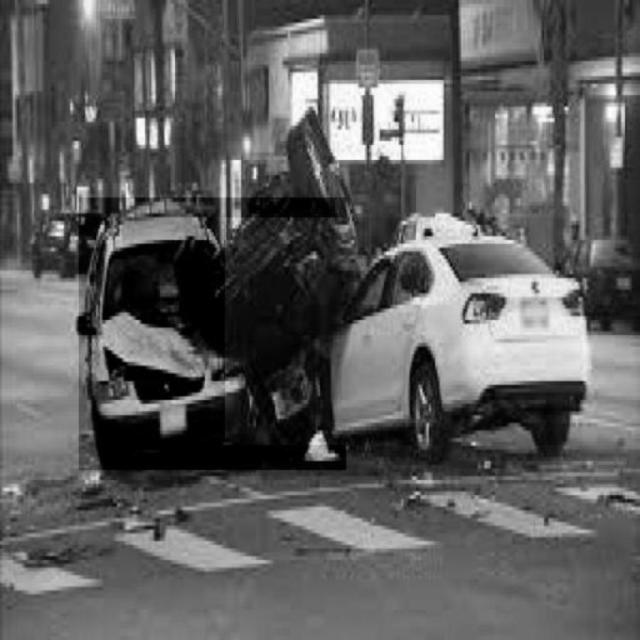accident: (225, 218, 583, 445), (79, 197, 347, 469)
